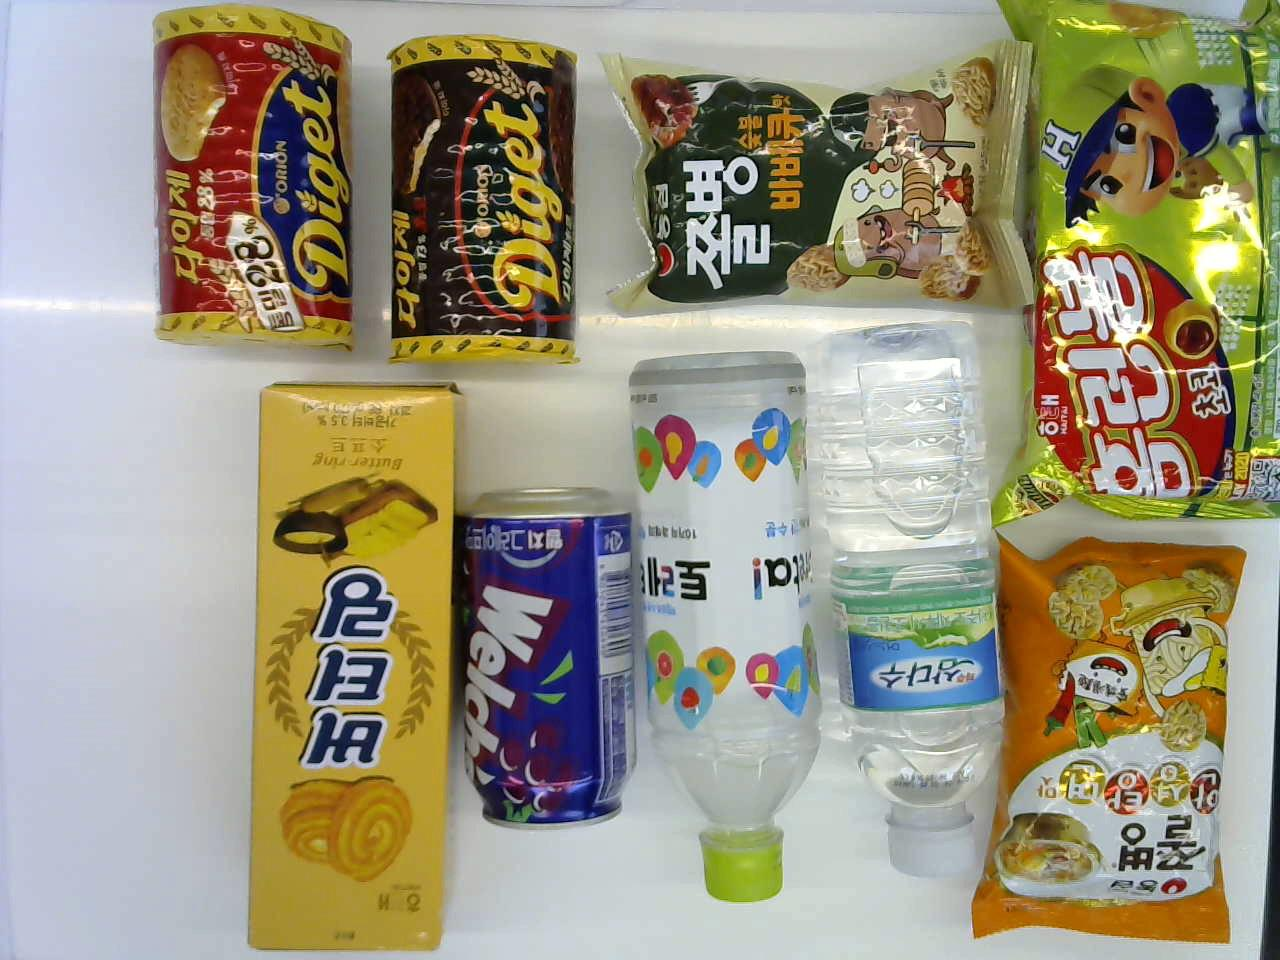buttering: (241, 383, 456, 952)
diget_choco: (382, 13, 575, 379)
diget_ori: (155, 2, 348, 367)
homerunball: (995, 4, 1274, 520)
jjolbyung_noodle: (994, 541, 1253, 946)
jjolbyung_ori: (615, 53, 1036, 321)
samdasu: (824, 319, 1001, 897)
toreta: (628, 336, 814, 924)
welchs: (449, 467, 641, 832)
